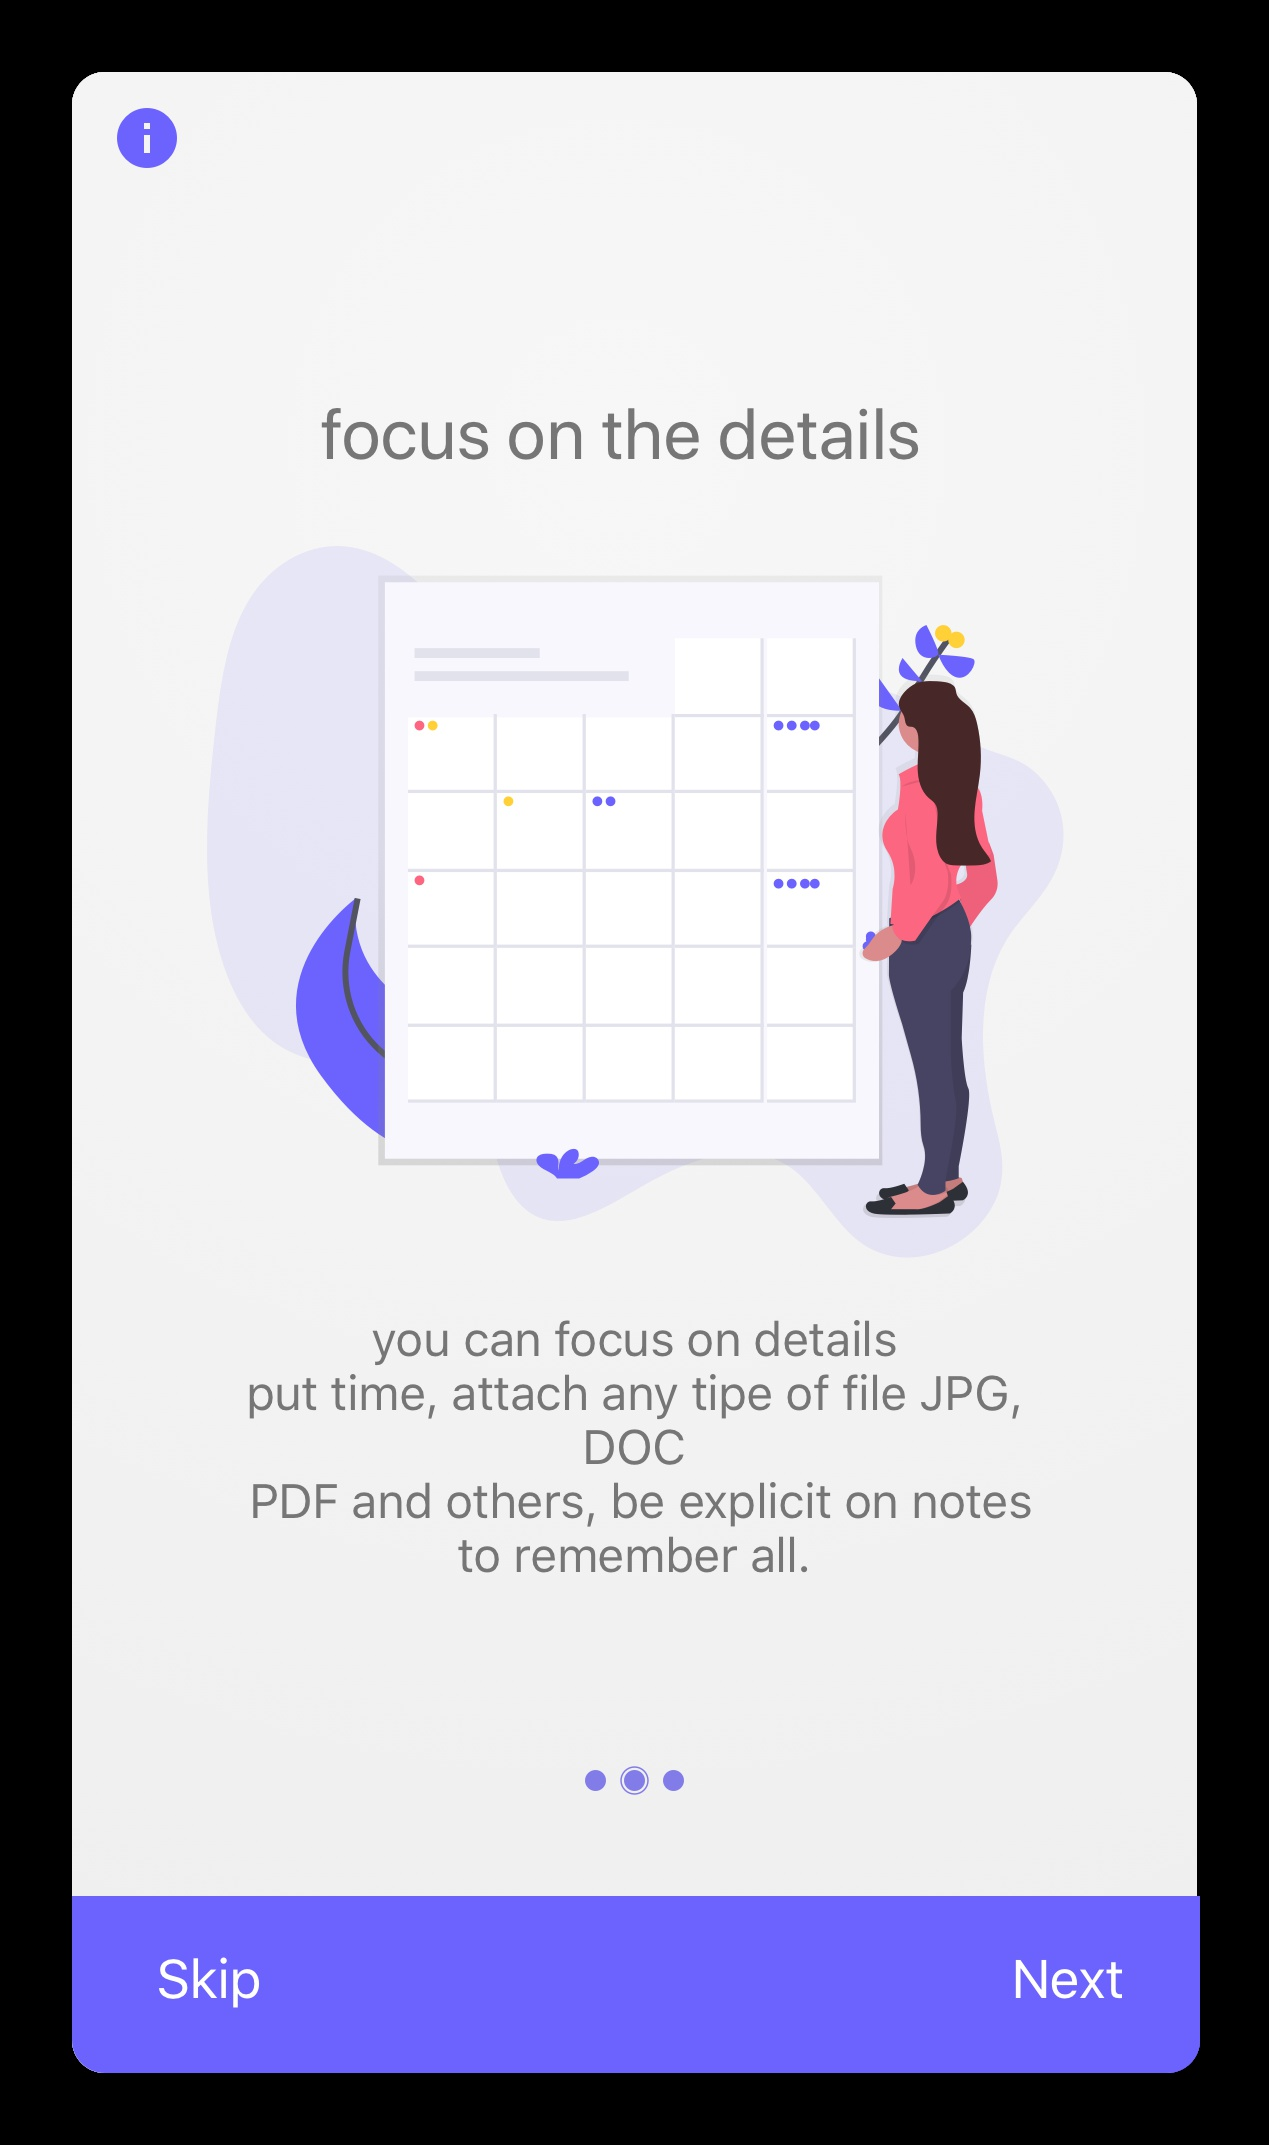Icon: (116, 107, 178, 171)
Image: (207, 545, 1067, 1260)
PageIndicator: (585, 1764, 687, 1798)
Text: (248, 1319, 1032, 1576), (320, 406, 922, 464), (159, 1955, 261, 2011), (1015, 1959, 1124, 2001)
